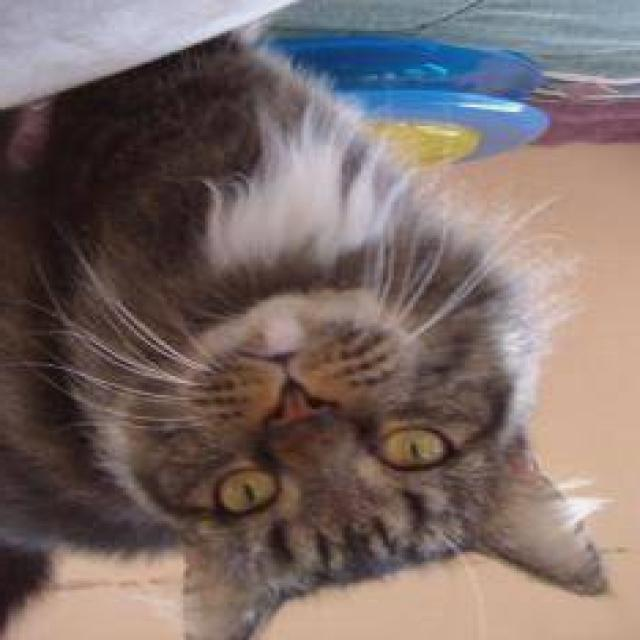Kucing: (0, 48, 629, 640)
